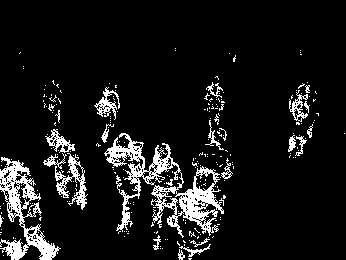person: (1, 155, 61, 259), (172, 167, 224, 258), (104, 134, 148, 235), (144, 144, 184, 251), (42, 128, 89, 211), (194, 129, 236, 205), (288, 81, 317, 161), (95, 81, 121, 145), (203, 74, 225, 147), (43, 78, 63, 129)
